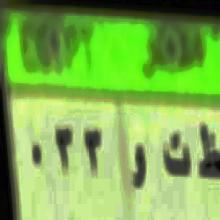0: (24, 138, 48, 178)
3: (55, 116, 76, 181), (80, 125, 106, 177)
Thaa: (197, 116, 220, 186)
taa: (160, 125, 193, 181)
waw: (130, 140, 148, 194)
